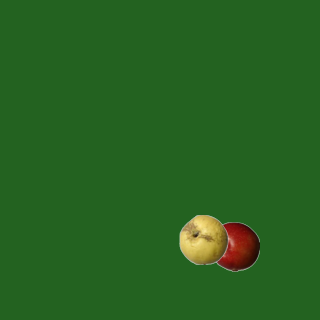Apple Braeburn: (209, 221, 259, 271)
Apple Golden 1: (178, 214, 228, 264)
